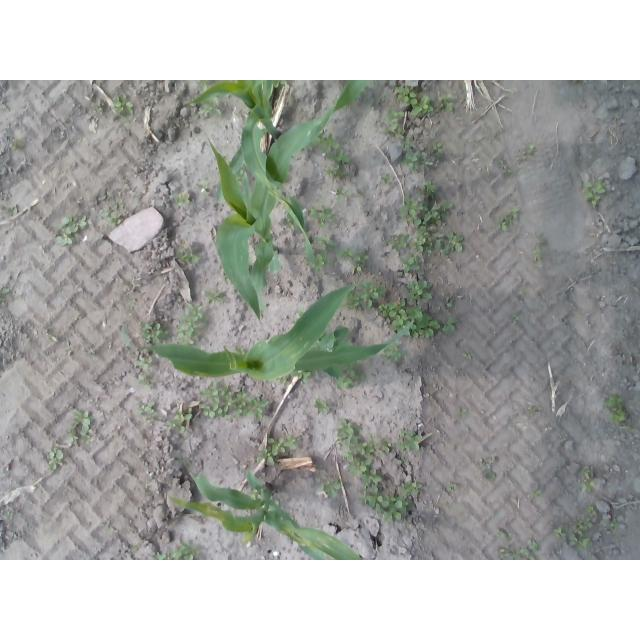Maize: (206, 80, 371, 321), (121, 282, 416, 382), (169, 474, 364, 560), (185, 82, 284, 203)
Weeds: (335, 418, 426, 525), (392, 181, 464, 275), (377, 85, 455, 171), (378, 280, 458, 339), (199, 381, 270, 420), (554, 505, 598, 552), (315, 133, 352, 179), (176, 301, 209, 346), (254, 434, 298, 466), (347, 282, 388, 311), (53, 215, 89, 247), (495, 540, 542, 561), (68, 409, 93, 446), (98, 193, 123, 228), (339, 247, 370, 275), (154, 544, 203, 561), (334, 369, 367, 392), (305, 205, 335, 228), (164, 410, 192, 434), (606, 394, 628, 424), (142, 321, 171, 343), (583, 180, 605, 209), (480, 456, 501, 485), (176, 245, 200, 268), (137, 355, 156, 384), (578, 464, 597, 492), (382, 343, 407, 364), (46, 443, 64, 471), (114, 93, 135, 116), (498, 207, 518, 231), (200, 97, 221, 118), (321, 475, 339, 499), (533, 233, 547, 262), (316, 235, 336, 253), (516, 145, 536, 163), (205, 288, 226, 304), (197, 179, 213, 198), (498, 159, 514, 178), (136, 399, 156, 414), (334, 186, 351, 203), (312, 254, 328, 271), (172, 190, 189, 206), (528, 483, 544, 499), (314, 398, 329, 415), (291, 371, 310, 384), (43, 325, 57, 342), (493, 528, 508, 541), (380, 172, 392, 184), (12, 138, 25, 149), (66, 342, 75, 357), (82, 346, 96, 355), (197, 81, 208, 92), (0, 287, 8, 301), (447, 483, 457, 493), (529, 405, 539, 415), (128, 299, 137, 310), (275, 80, 287, 88), (461, 352, 473, 360), (611, 518, 618, 530), (518, 291, 527, 300), (512, 314, 521, 323), (457, 407, 467, 415)
